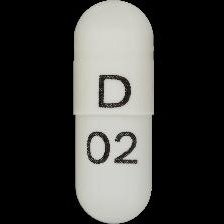50090-1597: (0, 0, 224, 224)
